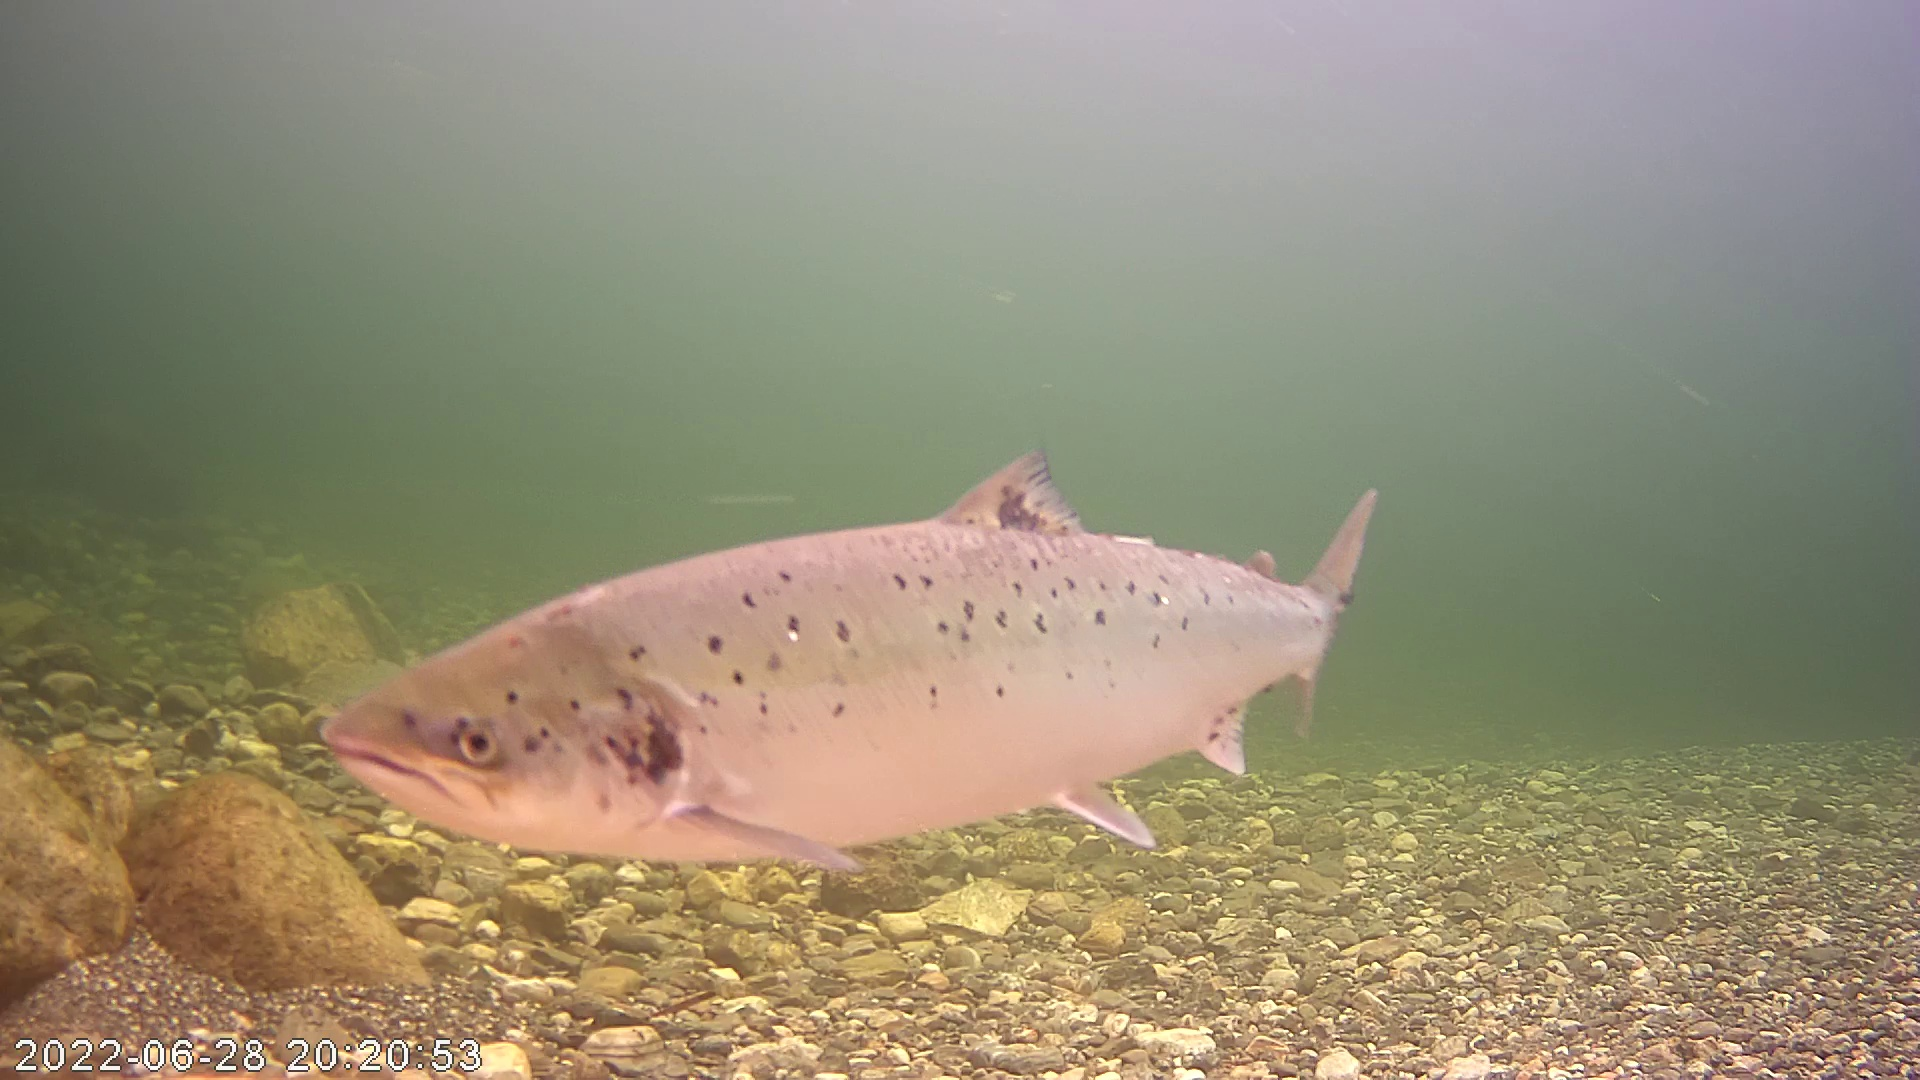salmon: (291, 378, 1375, 876)
